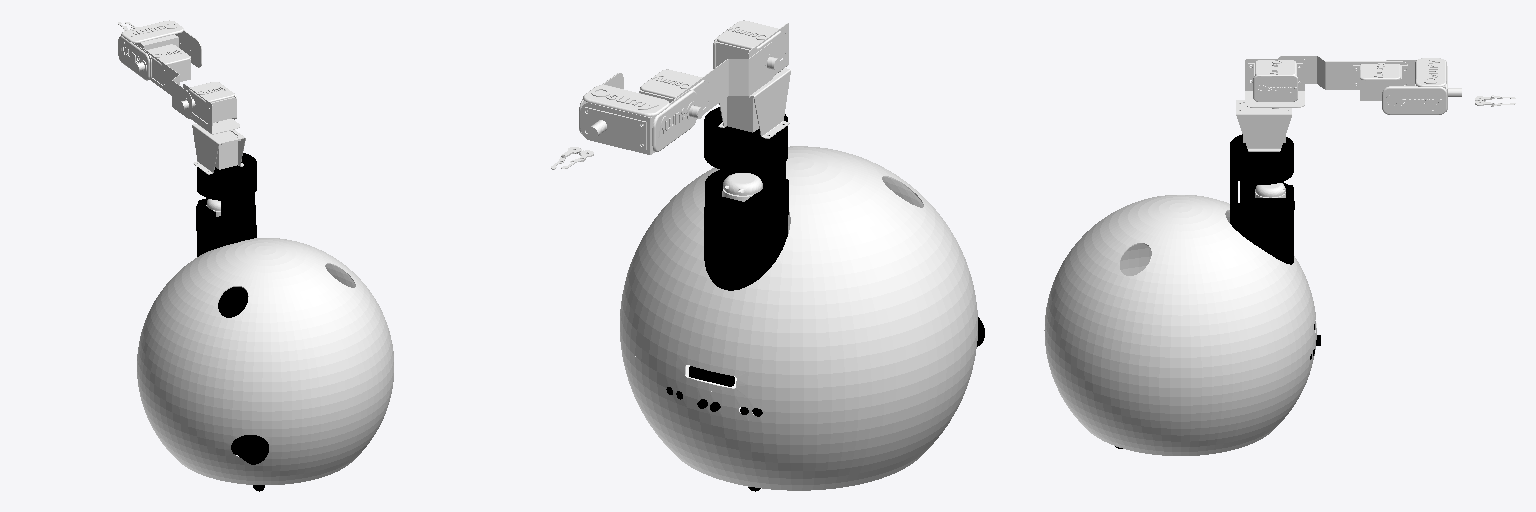
--- Facts derived from the render (not from the file) ---
The picture shows the robot from 3 angles, left to right: view 1: azimuth 30°, elevation 25°; view 2: azimuth 150°, elevation 25°; view 3: azimuth 270°, elevation 25°; orthographic projection.
Model robot with 29 links and 28 joints (8 continuous, 20 fixed), rooted at base_link, posed all joints at 0.
Links seen in each view (by area): view 1: base_link, main_body, shoulder_arm, mount_arm, arm, mount, long_label_1, lidar_cover, long_label_3, long_label_4, long_label_6, long_label_2; view 2: base_link, main_body, lidar_cover, arm, shoulder_arm, wrist_arm, long_label_1, long_label_3, mount_arm, long_label_4, long_label_6, lidar; view 3: base_link, main_body, arm, shoulder_arm, long_label_2, lidar_cover, long_label_5, mount_arm, long_label_1, long_label_6, long_label_4.
Boxes of the visible links, x1,y1,x2,y2 form: base_link: [137, 238, 393, 484]; main_body: [197, 153, 256, 317]; shoulder_arm: [192, 124, 245, 174]; mount_arm: [179, 84, 239, 134]; arm: [135, 48, 191, 118]; mount: [231, 435, 268, 464]; long_label_1: [122, 20, 183, 42]; lidar_cover: [196, 198, 255, 239]; long_label_3: [118, 36, 149, 80]; long_label_4: [189, 82, 234, 102]; long_label_6: [147, 44, 190, 65]; long_label_2: [175, 30, 201, 67]; base_link: [620, 146, 977, 490]; main_body: [704, 107, 787, 290]; lidar_cover: [705, 170, 788, 229]; arm: [639, 42, 776, 118]; shoulder_arm: [718, 68, 790, 138]; wrist_arm: [581, 90, 690, 154]; long_label_1: [583, 85, 669, 116]; long_label_3: [652, 90, 696, 151]; mount_arm: [716, 23, 788, 74]; long_label_4: [717, 20, 780, 49]; long_label_6: [640, 69, 704, 98]; lidar: [722, 173, 762, 201]; base_link: [1044, 195, 1316, 455]; main_body: [1230, 134, 1293, 264]; arm: [1278, 56, 1407, 100]; shoulder_arm: [1236, 100, 1291, 151]; long_label_2: [1382, 86, 1446, 114]; lidar_cover: [1240, 182, 1294, 225]; long_label_5: [1253, 74, 1297, 101]; mount_arm: [1245, 59, 1304, 107]; long_label_1: [1415, 58, 1446, 86]; long_label_6: [1360, 63, 1400, 80]; long_label_4: [1255, 60, 1295, 76].
Size in the robot's own frame: 0.654 by 1.13 by 0.963 metres.
Meshes: 18 distinct files referenced, 24 mesh visuals loaded (15 binary STL); not drawn: 5 (reference not matched to a file when rendering).

URDF robot description (robot):
<?xml version="1.0" encoding="utf-8"?>
<robot
  name="robot">
  <link
    name="base_link">
<inertial>
<mass value="10"/>
<inertia ixx="0.015" iyy="0.0375" izz="0.0375"
ixy="0" ixz="0" iyz="0"/>
</inertial>
    <visual>
      <origin
        xyz="0 0 0.33392"
        rpy="0 0 0" />
      <geometry>
        <mesh
          filename="package://robot/meshes/case_rsz.stl" />
      </geometry>
      <material
        name="White">
        <color
          rgba="1 1 1 1" />
      </material>
    </visual>
    <collision>
      <origin
        xyz="0 0 0.33392"
        rpy="0 0 0" />
      <geometry>
        <mesh
          filename="package://robot/meshes/case_rsz.stl" />
      </geometry>
    </collision>
  </link>
  <link
    name="leftwheel">
<inertial>
<mass value="1"/>
<inertia ixx="0.01" iyy="0.01" izz="0.01"
ixy="0" ixz="0" iyz="0"/>
</inertial>
    <visual>
      <origin
        xyz="0 0 0"
        rpy="0 0 3.14" />
      <geometry>
        <mesh
          filename="package://robot/meshes/wheel_rsz.stl" />
      </geometry>
      <material
        name="Black">
        <color
          rgba="0 0 0 1" />
      </material>
    </visual>
    <collision>
      <origin
        xyz="0 0 0"
        rpy="1.57 0 0" />
      <geometry>
        <cylinder radius="0.09" length = "0.03"/>
      </geometry>
    </collision>
  </link>
  <joint
    name="leftwheel_joint"
    type="continuous">
    <origin
        xyz="0.15 0 0.0851"
        rpy="0 0 1.5708" />
    <parent
      link="base_link" />
    <child
      link="leftwheel" />
    <axis
      xyz="0 1 0" />
  </joint>

  <link
    name="rightwheel">
<inertial>
<mass value="1"/>
<inertia ixx="0.01" iyy="0.01" izz="0.01"
ixy="0" ixz="0" iyz="0"/>
</inertial>
    <visual>
      <origin
        xyz="0 0 0"
        rpy="0 0 0" />
      <geometry>
        <mesh
          filename="package://robot/meshes/wheel_rsz.stl" />
      </geometry>
      <material
        name="Black">
        <color
          rgba="0 0 0 1" />
      </material>
    </visual>
    <collision>
      <origin
        xyz="0 0 0"
        rpy="1.57 0 0" />
      <geometry>
        <cylinder radius="0.09" length = "0.03"/>
      </geometry>
    </collision>
  </link>
  <joint
    name="rightwheel_joint"
    type="continuous">
    <origin
        xyz="-0.15 0 0.0851"
        rpy="0 0 1.5708" />
    <parent
      link="base_link" />
    <child
      link="rightwheel" />
    <axis
      xyz="0 1 0" />
  </joint>

 <link
    name="caster_front">
<inertial>
<mass value="0.5"/>
<inertia ixx="0.01" iyy="0.01" izz="0.01"
ixy="0" ixz="0" iyz="0"/>
</inertial>
    <visual>
      <origin
        xyz="0 0 0.06"
        rpy="0 0 0" />
      <geometry>
        <mesh
          filename="package://robot/meshes/caster.STL"/>

      </geometry>
      <material
        name="Black">
        <color
          rgba="0 0 0 1" />
      </material>
    </visual>
    <collision>
      <origin
        xyz="0.05 0 0"
        rpy="0 0 0" />
      <geometry>
        <sphere radius="0.025"/>
      </geometry>
    </collision>
  </link>
  <joint
    name="caster_front_joint"
    type="fixed">
    <origin
        xyz="0 0.1 0.024"
        rpy="0 0 1.57" />
    <parent
      link="base_link" />
    <child
      link="caster_front" />
    <axis
      xyz="0 1 0" />
  </joint>

 <link
    name="caster_right">
<inertial>
<mass value="0.8"/>
<inertia ixx="0.01" iyy="0.01" izz="0.01"
ixy="0" ixz="0" iyz="0"/>
</inertial>
    <visual>
      <origin
        xyz="0 0 0.06"
        rpy="0 0 0" />
      <geometry>
        <mesh
          filename="package://robot/meshes/caster.STL"/>

      </geometry>
      <material
        name="Black">
        <color
          rgba="0 0 0 1" />
      </material>
    </visual>
    <collision>
      <origin
        xyz="0 0 0"
        rpy="0 0 0" />
      <geometry>
        <sphere radius="0.025"/>
      </geometry>
    </collision>
  </link>
  <joint
    name="caster_right_joint"
    type="fixed">
    <origin
        xyz="0.1 -0.2 0.024"
        rpy="0 0 1.57" />
    <parent
      link="base_link" />
    <child
      link="caster_right" />
    <axis
      xyz="0 1 0" />
  </joint>

   <link
    name="caster_left">
<inertial>
<mass value="0.8"/>
<inertia ixx="0.01" iyy="0.01" izz="0.01"
ixy="0" ixz="0" iyz="0"/>
</inertial>
    <visual>
      <origin
        xyz="0 0 0.06"
        rpy="0 0 0" />
      <geometry>
        <mesh
          filename="package://robot/meshes/caster.STL"/>

      </geometry>
      <material
        name="Black">
        <color
          rgba="0 0 0 1" />
      </material>
    </visual>
    <collision>
      <origin
        xyz="0 0 0"
        rpy="0 0 0" />
      <geometry>
        <sphere radius="0.025"/>
      </geometry>
    </collision>
  </link>
  <joint
    name="caster_left_joint"
    type="fixed">
    <origin
        xyz="-0.1 -0.2 0.024"
        rpy="0 0 1.57" />
    <parent
      link="base_link" />
    <child
      link="caster_left" />
    <axis
      xyz="0 1 0" />
  </joint>


  <link
    name="mount">
<inertial>
<mass value="0.9"/>
<inertia ixx="0.01" iyy="0.01" izz="0.01"
ixy="0" ixz="0" iyz="0"/>
</inertial>
    <visual>
      <origin
        xyz="0 0 0"
        rpy="0 0 0" />
      <geometry>
        <mesh
          filename="package://robot/meshes/mount.stl" />
      </geometry>
      <material
        name="Black">
        <color
          rgba="0 0 0 1" />
      </material>
    </visual>
    <collision>
      <origin
        xyz="0 0 0"
        rpy="0 0 0" />
      <geometry>
        <mesh
          filename="package://robot/meshes/mount.stl" />
      </geometry>
    </collision>
  </link>
  <joint
    name="mount_joint"
    type="fixed">
    <origin
        xyz="-0.26 -0.3 0.13"
        rpy="0 0 0" />
    <parent
      link="base_link" />
    <child
      link="mount" />
    <axis
      xyz="0 1 0" />
  </joint>
  <link
    name="sensor1">
<inertial>
<mass value="0.1"/>
<inertia ixx="0.01" iyy="0.01" izz="0.01"
ixy="0" ixz="0" iyz="0"/>
</inertial>
    <visual>
      <origin
        xyz="0 0 0"
        rpy="0 0 0" />
      <geometry>
        <mesh
          filename="package://robot/meshes/sensor.stl" />
      </geometry>
      <material
        name="Black">
        <color
          rgba="0 0 0 1" />
      </material>
    </visual>
    <collision>
      <origin
        xyz="0 0 0"
        rpy="0 0 0" />
      <geometry>
        <mesh
          filename="package://robot/meshes/sensor.stl" />
      </geometry>
    </collision>
  </link>
  <joint
    name="sensor1_joint"
    type="fixed">
    <origin
        xyz="0 0.285 0.244"
        rpy="0 0 0" />
    <parent
      link="base_link" />
    <child
      link="sensor1" />
    <axis
      xyz="0 1 0" />
  </joint>

  <link
    name="sensor2">
<inertial>
<mass value="0.1"/>
<inertia ixx="0.01" iyy="0.01" izz="0.01"
ixy="0" ixz="0" iyz="0"/>

</inertial>
    <visual>
      <origin
        xyz="0 0 0 "
        rpy="0 0 0 " />
      <geometry>
        <mesh
          filename="package://robot/meshes/sensor.stl" />
      </geometry>
      <material
        name="Black">
        <color
          rgba="0 0 0 1" />
      </material>
    </visual>
    <collision>
      <origin
        xyz="0 0 0"
        rpy="0 0 0" />
      <geometry>
        <mesh
          filename="package://robot/meshes/sensor.stl" />
      </geometry>
    </collision>
  </link>
  <joint
    name="sensor2_joint"
    type="fixed">
    <origin
        xyz="0.078 0.265 0.244"
        rpy="0 0 -0.26" />
    <parent
      link="base_link" />
    <child
      link="sensor2" />
    <axis
      xyz="0 1 0" />
  </joint>
  <link
    name="sensor3">
<inertial>
<mass value="0.1"/>
<inertia ixx="0.01" iyy="0.01" izz="0.01"
ixy="0" ixz="0" iyz="0"/>
</inertial>
    <visual>
      <origin
        xyz="-0.078 0.265 0.244"
        rpy="0 0 0.26" />
      <geometry>
        <mesh
          filename="package://robot/meshes/sensor.stl" />
      </geometry>
      <material
        name="Black">
        <color
          rgba="0 0 0 1" />
      </material>
    </visual>
    <collision>
      <origin
        xyz="-0.078 0.265 0.244"
        rpy="0 0 0" />
      <geometry>
        <mesh
          filename="package://robot/meshes/sensor.stl" />
      </geometry>
    </collision>
  </link>
  <joint
    name="sensor3_joint"
    type="fixed">
    <origin
        xyz="0 0 0"
        rpy="0 0 0" />
    <parent
      link="base_link" />
    <child
      link="sensor3" />
    <axis
      xyz="0 1 0" />
  </joint>

  <link
    name="main_body">
<inertial>
<mass value="0.1"/>
<inertia ixx="0.01" iyy="0.01" izz="0.01"
ixy="0" ixz="0" iyz="0"/>
</inertial>
    <visual>
      <origin
        xyz="0 0 0"
        rpy="0 0 0" />
      <geometry>
        <mesh
          filename="package://robot/meshes/body.stl" />
      </geometry>
      <material
        name="Black">
        <color
          rgba="0 0 0 1" />
      </material>
    </visual>
    <collision>
      <origin
        xyz="0 0 0"
        rpy="0 0 0" />
      <geometry>
        <mesh
          filename="package://robot/meshes/body.stl" />
      </geometry>
    </collision>
  </link>
  <joint
    name="body_joint"
    type="fixed">
    <origin
        xyz="0 0.16 0.6"
        rpy="0 0 -1.5708" />
    <parent
      link="base_link" />
    <child
      link="main_body" />
    <axis
      xyz="0 1 0" />
  </joint>

  <link
    name="lidar_cover">
<inertial>
<mass value="0.1"/>
<inertia ixx="0.01" iyy="0.01" izz="0.01"
ixy="0" ixz="0" iyz="0"/>
</inertial>
    <visual>
      <origin
        xyz="0 0 0"
        rpy="0 0 0" />
      <geometry>
        <mesh
          filename="package://robot/meshes/lidar2.STL" />
      </geometry>
      <material
        name="White">
        <color
          rgba="0 0 0 1" />
      </material>
    </visual>
    <collision>
      <origin
        xyz="0 0 0"
        rpy="0 0 0" />
      <geometry>
        <mesh
          filename="package://robot/meshes/lidar2.STL" />
      </geometry>
    </collision>
  </link>
  <joint
    name="lidar_cover"
    type="fixed">
    <origin
        xyz="0 0.005 -0.015"
        rpy="1.57 0 -1.57" />
    <parent
      link="main_body" />
    <child
      link="lidar_cover" />
    <axis
      xyz="0 1 0" />
  </joint>



  <link
    name="lidar">
<inertial>
<mass value="0.1"/>
<inertia ixx="0.01" iyy="0.01" izz="0.01"
ixy="0" ixz="0" iyz="0"/>
</inertial>
    <visual>
      <origin
        xyz="0 0 0"
        rpy="0 0 0" />
      <geometry>
        <mesh
          filename="package://robot/meshes/lidar.stl" />
      </geometry>
      <material
        name="White">
        <color
          rgba="1 1 1 1" />
      </material>
    </visual>
    <collision>
      <origin
        xyz="0 0 0"
        rpy="0 0 0" />
      <geometry>
        <mesh
          filename="package://robot/meshes/lidar.stl" />
      </geometry>
    </collision>
  </link>
  <joint
    name="lidar_joint"
    type="fixed">
    <origin
        xyz="0.01 0.065 0.03"
        rpy="-1.57 -1.57 0" />
    <parent
      link="lidar_cover" />
    <child
      link="lidar" />
    <axis
      xyz="0 1 0" />
  </joint>
  <link
    name="shoulder_arm">
<inertial>
<mass value="0.1"/>
<inertia ixx="0.01" iyy="0.01" izz="0.01"
ixy="0" ixz="0" iyz="0"/>
</inertial>
    <visual>
      <origin
        xyz="0 0 0"
        rpy="0 0 0" />
      <geometry>
        <mesh
          filename="package://robot/meshes/shoulder.stl" />
      </geometry>
      <material
        name="White">
        <color
          rgba="1 1 1 1" />
      </material>
    </visual>
    <collision>
      <origin
        xyz="0 0 0"
        rpy="0 0 0" />
      <geometry>
        <mesh
          filename="package://robot/meshes/shoulder.stl" />
      </geometry>
    </collision>
  </link>
  <joint
    name="shoulder_arm_joint"
    type="fixed">
    <origin
        xyz="0 -0.02 0.2"
        rpy="0 0 0" />
    <parent
      link="main_body" />
    <child
      link="shoulder_arm" />
    <limit 
      lower="-0.78" upper="0.78" effort="0.1" velocity="0.1"/>
    <dynamics damping="0.5"/>
    <axis
      xyz="0 1 0" />
  </joint>
  <link
    name="mount_arm">
<inertial>
<mass value="0.1"/>
<inertia ixx="0.01" iyy="0.01" izz="0.01"
ixy="0" ixz="0" iyz="0" />
      </inertial>
    <visual>
      <origin
        xyz="0.026 0 0"
        rpy="0 0 0" />
      <geometry>
        <mesh
          filename="package://robot/meshes/mount_arm.stl" />
      </geometry>
      <material
        name="White">
        <color
          rgba="1 1 1 1" />
      </material>
    </visual>
    <collision>
      <origin
        xyz="0.026 0 0"
        rpy="0 0 0" />
      <geometry>
        <mesh
          filename="package://robot/meshes/mount_arm.stl" />
      </geometry>
    </collision>
  </link>
  <joint
    name="mount_arm_joint"
    type="continuous">
    <origin
        xyz="-0.026 0 0"
        rpy="0 0 0" />
    <parent
      link="shoulder_arm" />
    <child
      link="mount_arm" />

    <axis
      xyz="0 0 1" />
  </joint>
  <transmission name="tran1">
    <type>transmission_interface/SimpleTransmission</type>
    <joint name="mount_arm_joint">
      <hardwareInterface>hardware_interface/PositionJointInterface</hardwareInterface>
    </joint>
    <actuator name="motor1">
      <hardwareInterface>PositionJointInterface</hardwareInterface>
      <mechanicalReduction>1</mechanicalReduction>
    </actuator>
  </transmission>

<link
    name="long_label_4">
<inertial>
<mass value="0.01"/>
<inertia ixx="0.01" iyy="0.01" izz="0.01"
ixy="0" ixz="0" iyz="0" />
      </inertial>
    <visual>
      <origin
        xyz="0 0 0"
        rpy="0 0 0" />
      <geometry>
        <mesh
          filename="package://robot/meshes/label.STL" 
          scale="1 1 1.1 "/>
      </geometry>
      <material
        name="White">
        <color
          rgba="1 1 1 1" />
      </material>
    </visual>
    <collision>
      <origin
        xyz="0 0 0"
        rpy="0 0 0" />
      <geometry>
        <mesh
          filename="package://robot/meshes/label.STL" />
      </geometry>
    </collision>
  </link>
  <joint
    name="long_label_4_joint"
    type="fixed">
    <origin
        xyz="0.005 -0.01 0.155"
        rpy="1.57 0 -1.57" />
    <parent
      link="mount_arm" />
    <child
      link="long_label_4" />
    <axis
      xyz="0 1 0" />
  </joint>

<link
    name="long_label_5">
<inertial>
<mass value="0.01"/>
<inertia ixx="0.01" iyy="0.01" izz="0.01"
ixy="0" ixz="0" iyz="0" />
      </inertial>
    <visual>
      <origin
        xyz="0 0 0"
        rpy="0 0 0" />
      <geometry>
        <mesh
          filename="package://robot/meshes/label.STL" 
          scale="1.2 1 0.8 "/>
      </geometry>
      <material
        name="White">
        <color
          rgba="1 1 1 1" />
      </material>
    </visual>
    <collision>
      <origin
        xyz="0 0 0"
        rpy="0 0 0" />
      <geometry>
        <mesh
          filename="package://robot/meshes/label.STL" />
      </geometry>
    </collision>
  </link>
  <joint
    name="long_label_5_joint"
    type="fixed">
    <origin
        xyz="0.005 0.035 0.12"
        rpy="0 0 0" />
    <parent
      link="mount_arm" />
    <child
      link="long_label_5" />
    <axis
      xyz="0 1 0" />
  </joint>

  <link
    name="arm">
<inertial>
<mass value="0.1"/>
<inertia ixx="0.01" iyy="0.01" izz="0.01"
ixy="0" ixz="0" iyz="0" />
      </inertial>
    <visual>
      <origin
        xyz="0.052 0.07376 -0.124"
        rpy="0 0 0" />
      <geometry>
        <mesh
          filename="package://robot/meshes/arm.stl" />
      </geometry>
      <material
        name="White">
        <color
          rgba="1 1 1 1" />
      </material>
    </visual>
    <collision>
      <origin
        xyz="0.052 0.07376 -0.124"
        rpy="0 0 0" />
      <geometry>
        <mesh
          filename="package://robot/meshes/arm.stl" />
      </geometry>
    </collision>
  </link>
  <joint
    name="arm_joint"
    type="continuous">
    <origin
        xyz="-0.026 -0.07376 0.124"
        rpy="0 0 0" />
    <parent
      link="mount_arm" />
    <child
      link="arm" />
    <axis
      xyz="0 1 0" />
  </joint>

<link
    name="long_label_6">
<inertial>
<mass value="0.01"/>
<inertia ixx="0.01" iyy="0.01" izz="0.01"
ixy="0" ixz="0" iyz="0" />
      </inertial>
    <visual>
      <origin
        xyz="0 0 0"
        rpy="0 0 0" />
      <geometry>
        <mesh
          filename="package://robot/meshes/label.STL" 
          scale="1 1 1.1 "/>
      </geometry>
      <material
        name="White">
        <color
          rgba="1 1 1 1" />
      </material>
    </visual>
    <collision>
      <origin
        xyz="0 0 0"
        rpy="0 0 0" />
      <geometry>
        <mesh
          filename="package://robot/meshes/label.STL" />
      </geometry>
    </collision>
  </link>
  <joint
    name="long_label_6_joint"
    type="fixed">
    <origin
        xyz="-0.22 0.08 0.03"
        rpy="1.57 0 -1.57" />
    <parent
      link="arm" />
    <child
      link="long_label_6" />
    <axis
      xyz="0 1 0" />
  </joint>

  <transmission name="tran2">
    <type>transmission_interface/SimpleTransmission</type>
    <joint name="arm_joint">
      <hardwareInterface>hardware_interface/PositionJointInterface</hardwareInterface>
    </joint>
    <actuator name="motor2">
      <hardwareInterface>PositionJointInterface</hardwareInterface>
      <mechanicalReduction>1</mechanicalReduction>
    </actuator>
  </transmission>

  <link
    name="wrist_arm">
<inertial>
<mass value="0.01"/>
<inertia ixx="0.01" iyy="0.01" izz="0.01"
ixy="0" ixz="0" iyz="0" />
      </inertial>
    <visual>
      <origin
        xyz="0.3 0.07376 -0.124"
        rpy="0 0 0" />
      <geometry>
        <mesh
          filename="package://robot/meshes/wrist.stl" />
      </geometry>
      <material
        name="White">
        <color
          rgba="1 1 1 1" />
      </material>
    </visual>
    <collision>
      <origin
        xyz="0.3 0.07376 -0.124"
        rpy="0 0 0" />
      <geometry>
        <mesh
          filename="package://robot/meshes/wrist.stl" />
      </geometry>
    </collision>
  </link>
  <joint
    name="wrist_arm_joint"
    type="continuous">
    <origin
        xyz="-0.25 0 0"
        rpy="0 0 0" />
    <parent
      link="arm" />
    <child
      link="wrist_arm" />
    <axis
      xyz="0 1 0" />
  </joint>
    <transmission name="tran3">
    <type>transmission_interface/SimpleTransmission</type>
    <joint name="wrist_arm_joint">
      <hardwareInterface>hardware_interface/PositionJointInterface</hardwareInterface>
    </joint>
    <actuator name="motor3">
      <hardwareInterface>PositionJointInterface</hardwareInterface>
      <mechanicalReduction>1</mechanicalReduction>
    </actuator>
  </transmission>

  <link
    name="long_label_1">
<inertial>
<mass value="0.01"/>
<inertia ixx="0.01" iyy="0.01" izz="0.01"
ixy="0" ixz="0" iyz="0" />
      </inertial>
    <visual>
      <origin
        xyz="0 0 0"
        rpy="0 0 0" />
      <geometry>
        <mesh
          filename="package://robot/meshes/long_label.STL" />
      </geometry>
      <material
        name="White">
        <color
          rgba="1 1 1 1" />
      </material>
    </visual>
    <collision>
      <origin
        xyz="0 0 0"
        rpy="0 0 0" />
      <geometry>
        <mesh
          filename="package://robot/meshes/long_label.STL" />
      </geometry>
    </collision>
  </link>
  <joint
    name="long_label_1_joint"
    type="fixed">
    <origin
        xyz="-0.1 0.11 0.04"
        rpy="1.57 0 1.57" />
    <parent
      link="wrist_arm" />
    <child
      link="long_label_1" />
    <axis
      xyz="0 1 0" />
  </joint>

  <link
    name="long_label_2">
<inertial>
<mass value="0.01"/>
<inertia ixx="0.01" iyy="0.01" izz="0.01"
ixy="0" ixz="0" iyz="0" />
      </inertial>
    <visual>
      <origin
        xyz="0 0 0"
        rpy="0 0 0" />
      <geometry>
        <mesh
          filename="package://robot/meshes/long_label.STL" />
      </geometry>
      <material
        name="White">
        <color
          rgba="1 1 1 1" />
      </material>
    </visual>
    <collision>
      <origin
        xyz="0 0 0"
        rpy="0 0 0" />
      <geometry>
        <mesh
          filename="package://robot/meshes/long_label.STL" />
      </geometry>
    </collision>
  </link>
  <joint
    name="long_label_2_joint"
    type="fixed">
    <origin
        xyz="-0.06 0.185 0.0"
        rpy="0 0 0" />
    <parent
      link="wrist_arm" />
    <child
      link="long_label_2" />
    <axis
      xyz="0 1 0" />
  </joint>

<link
    name="long_label_3">
<inertial>
<mass value="0.01"/>
<inertia ixx="0.01" iyy="0.01" izz="0.01"
ixy="0" ixz="0" iyz="0" />
      </inertial>
    <visual>
      <origin
        xyz="0 0 0"
        rpy="0 0 0" />
      <geometry>
        <mesh
          filename="package://robot/meshes/long_label.STL" />
      </geometry>
      <material
        name="White">
        <color
          rgba="1 1 1 1" />
      </material>
    </visual>
    <collision>
      <origin
        xyz="0 0 0"
        rpy="0 0 0" />
      <geometry>
        <mesh
          filename="package://robot/meshes/long_label.STL" />
      </geometry>
    </collision>
  </link>
  <joint
    name="long_label_3_joint"
    type="fixed">
    <origin
        xyz="-0.058 0.035 0.005"
        rpy="0 3.14 3.14" />
    <parent
      link="wrist_arm" />
    <child
      link="long_label_3" />
    <axis
      xyz="0 1 0" />
  </joint>


<link
    name="servo">
<inertial>
<mass value="0.01"/>
<inertia ixx="0.01" iyy="0.01" izz="0.01"
ixy="0" ixz="0" iyz="0" />
      </inertial>
    <visual>
      <origin
        xyz="0 -0.02 0"
        rpy="0 0 0" />
      <geometry>
        <mesh
          filename="package://robot/meshes/servo.stl" />
      </geometry>
      <material
        name="White">
        <color
          rgba="1 1 1 1" />
      </material>
    </visual>
    <collision>
      <origin
        xyz="0 0 0"
        rpy="0 0 0" />
      <geometry>
        <mesh
          filename="package://robot/meshes/servo.stl" />
      </geometry>
    </collision>
  </link>
<joint
    name="servo_joint"
    type="continuous">
    <origin
        xyz="-0.2 0.14 0.01"
        rpy="-1.57 0 1.57" />
    <parent
      link="wrist_arm" />
    <child
      link="servo" />
    <axis
      xyz="0 0 1" />
  </joint>
      <transmission name="tran6">
    <type>transmission_interface/SimpleTransmission</type>
    <joint name="servo_joint">
      <hardwareInterface>hardware_interface/PositionJointInterface</hardwareInterface>
    </joint>
    <actuator name="motor6">
      <hardwareInterface>PositionJointInterface</hardwareInterface>
      <mechanicalReduction>1</mechanicalReduction>
    </actuator>
  </transmission>

  <link
    name="finger1">
<inertial>
<mass value="0.01"/>
<inertia ixx="0.01" iyy="0.01" izz="0.01"
ixy="0" ixz="0" iyz="0" />
      </inertial>
    <visual>
      <origin
        xyz="0 0 0"
        rpy="0 0 0" />
      <geometry>
        <mesh
          filename="package://robot/meshes/finger2.stl" />
      </geometry>
      <material
        name="White">
        <color
          rgba="1 1 1 1" />
      </material>
    </visual>
    <collision>
      <origin
        xyz="0 0 0"
        rpy="0 0 0" />
      <geometry>
        <mesh
          filename="package://robot/meshes/finger2.stl" />
      </geometry>
    </collision>
  </link>
<joint
    name="finger1_joint"
    type="continuous">
    <origin
        xyz="-0.016 0.03 0.015"
        rpy="0 0 3.14" />
    <parent
      link="servo" />
    <child
      link="finger1" />
    <axis
      xyz="0 1 0" />
  </joint>
      <transmission name="tran5">
    <type>transmission_interface/SimpleTransmission</type>
    <joint name="finger1_joint">
      <hardwareInterface>hardware_interface/PositionJointInterface</hardwareInterface>
    </joint>
    <actuator name="motor5">
      <hardwareInterface>PositionJointInterface</hardwareInterface>
      <mechanicalReduction>1</mechanicalReduction>
    </actuator>
  </transmission>

  <link
    name="finger2">
<inertial>
<mass value="0.01"/>
<inertia ixx="0.01" iyy="0.01" izz="0.01"
ixy="0" ixz="0" iyz="0" />
      </inertial>
    <visual>
      <origin
        xyz="0 0 0"
        rpy="0 0 0" />
      <geometry>
        <mesh
          filename="package://robot/meshes/finger2.stl" />
      </geometry>
      <material
        name="White">
        <color
          rgba="1 1 1 1" />
      </material>
    </visual>
    <collision>
      <origin
        xyz="0 0 0"
        rpy="0 0 0" />
      <geometry>
        <mesh
          filename="package://robot/meshes/finger2.stl" />
      </geometry>
    </collision>
  </link>
<joint
    name="finger2_joint"
    type="continuous">
    <origin
        xyz="0.015 0.03 0.015"
        rpy="0 0 0" />
    <parent
      link="servo" />
    <child
      link="finger2" />
    <axis
      xyz="0 1 0" />
  </joint>

      <transmission name="tran4">
    <type>transmission_interface/SimpleTransmission</type>
    <joint name="finger2_joint">
      <hardwareInterface>hardware_interface/PositionJointInterface</hardwareInterface>
    </joint>
    <actuator name="motor4">
      <hardwareInterface>PositionJointInterface</hardwareInterface>
      <mechanicalReduction>1</mechanicalReduction>
    </actuator>
  </transmission>

 <link
    name="camera">
<inertial>
<mass value="0.1"/>
<inertia ixx="0.01" iyy="0.01" izz="0.01"
ixy="0" ixz="0" iyz="0"/>
</inertial>
    <visual>
      <origin
        xyz="0 0 0"
        rpy="0 1.57 0" />
      <geometry>
        <mesh
          filename="package://robot/meshes/astra.dae"
          scale="0.3 0.3 0.3 " />

      </geometry>
      <material
        name="Black">
        <color
          rgba="0 0 0 1" />
      </material>
    </visual>
    <collision>
      <origin
        xyz="0 0 0"
        rpy="0 1.57 0" />
      <geometry>
        <mesh
          filename="package://robot/meshes/astra.dae"
          scale="0.3 0.3 0.3 " />
      </geometry>
    </collision>
  </link>
  <joint
    name="camera_joint"
    type="fixed">
    <origin
        xyz="0 0.27 0.33"
        rpy="-1.57 0 1.57" />
    <parent
      link="base_link" />
    <child
      link="camera" />
    <axis
      xyz="0 1 0" />
  </joint>

 <link
    name="camera_2">
<inertial>
<mass value="0.1"/>
<inertia ixx="0.01" iyy="0.01" izz="0.01"
ixy="0" ixz="0" iyz="0"/>
</inertial>
    <visual>
      <origin
        xyz="0 0 0"
        rpy="0 0 0" />
      <geometry>
        <mesh
          filename="package://robot/meshes/T265.STL" />

      </geometry>
      <material
        name="Black">
        <color
          rgba="0 0 0 1" />
      </material>
    </visual>
    <collision>
      <origin
        xyz="0 0 0"
        rpy="0 0 0" />
      <geometry>
        <mesh
          filename="package://robot/meshes/T265.STL" />
      </geometry>
    </collision>
  </link>

  <joint
    name="camera_2_joint"
    type="fixed">
    <origin
        xyz="-0.045 0.27 0.312"
        rpy="-1.57 0 0" />
    <parent
      link="base_link" />
    <child
      link="camera_2" />
    <axis
      xyz="0 1 0" />
  </joint>

 <link
    name="camera_1">
<inertial>
<mass value="0.1"/>
<inertia ixx="0.01" iyy="0.01" izz="0.01"
ixy="0" ixz="0" iyz="0"/>
</inertial>
    <visual>
      <origin
        xyz="0 0 0"
        rpy="0 0 0" />
      <geometry>
        <mesh
          filename="package://robot/meshes/astra.dae"
          scale="0.3 0.3 0.3 " />

      </geometry>
      <material
        name="Black">
        <color
          rgba="0 0 0 1" />
      </material>
    </visual>
    <collision>
      <origin
        xyz="0 0 0"
        rpy="0 0 0" />
      <geometry>
        <mesh
          filename="package://robot/meshes/astra.dae"
          scale="0.3 0.3 0.3 " />
      </geometry>
    </collision>
  </link>
  <joint
    name="camera_1_joint"
    type="fixed">
    <origin
        xyz="0 -0.04 0"
        rpy="0 0 0" />
    <parent
      link="servo" />
    <child
      link="camera_1" />
    <axis
      xyz="0 1 0" />
  </joint>


<!--Gazebo -->

  <gazebo reference="base_link">
         <material>Gazebo/SkyBlue</material>
  </gazebo>

  <gazebo reference="rightwheel">
         <material>Gazebo/DarkGrey</material>
  </gazebo>

  <gazebo reference="leftwheel">
         <material>Gazebo/DarkGrey</material>
  </gazebo>

  <gazebo reference="sensor1">
         <material>Gazebo/ZincYellow</material>
  </gazebo>

  <gazebo reference="sensor2">
         <material>Gazebo/ZincYellow</material>
  </gazebo>

  <gazebo reference="sensor3">
         <material>Gazebo/ZincYellow</material>
  </gazebo>

  <gazebo reference="main_body">
         <material>Gazebo/DarkGrey</material>
  </gazebo>

  <gazebo reference="lidar">
         <material>Gazebo/ZincYellow</material>
  </gazebo>
  <gazebo reference="wrist_arm">
         <material>Gazebo/Purple</material>
  </gazebo>
  <gazebo reference="shoulder_arm">
         <material>Gazebo/Red</material>
  </gazebo>
  <gazebo reference="arm">
         <material>Gazebo/Indigo</material>
  </gazebo>
  <gazebo reference="servo">
         <material>Gazebo/GreenGlow</material>
  </gazebo>
 <gazebo reference="finger1">
         <material>Gazebo/YellowGlow</material>
  </gazebo>
   <gazebo reference="finger2">
         <material>Gazebo/BlueGlow</material>
  </gazebo>

     <gazebo reference="lidar_cover">
         <material>Gazebo/Purple</material>
  </gazebo>

     <gazebo reference="long_label_1">
         <material>Gazebo/ZincYellow</material>
  </gazebo>
     <gazebo reference="long_label_2">
         <material>Gazebo/ZincYellow</material>
  </gazebo>

     <gazebo reference="long_label_3">
         <material>Gazebo/ZincYellow</material>
  </gazebo>
     <gazebo reference="long_label_4">
         <material>Gazebo/ZincYellow</material>
  </gazebo>
     <gazebo reference="long_label_5">
         <material>Gazebo/ZincYellow</material>
  </gazebo>
      <gazebo reference="long_label_6">
         <material>Gazebo/ZincYellow</material>
  </gazebo> 
<gazebo reference="lidar">
    <sensor type="ray" name="head_rplidar_sensor">
      <pose>0 0 0.06 0 0 0</pose>
      <visualize>false</visualize>
      <update_rate>40</update_rate>
      <ray>
        <scan>
          <horizontal>
            <samples>720</samples>
            <resolution>1</resolution>
            <min_angle>-3.14159265</min_angle>
            <max_angle>3.14159265</max_angle>
          </horizontal>
        </scan>
        <range>
          <min>0.2</min>
          <max>30.0</max>
          <resolution>0.01</resolution>
        </range>
        <noise>
          <type>gaussian</type>
          <mean>0.0</mean>
          <stddev>0.01</stddev>
        </noise>
      </ray>
      <plugin name="gazebo_ros_head_rplidar_controller" filename="libgazebo_ros_laser.so">
        <topicName>scan</topicName>
        <frameName>lidar</frameName>
      </plugin>
    </sensor>
  </gazebo>

   <gazebo>

    <plugin name="differential_drive_controller" filename="libgazebo_ros_diff_drive.so">
      <commandTopic>cmd_vel</commandTopic>
      <odometryTopic>odom</odometryTopic>
      <odometryFrame>odom</odometryFrame>
      <odometrySource>world</odometrySource>
      <publishOdomTF>true</publishOdomTF>
      <robotBaseFrame>base_link</robotBaseFrame>
      <publishWheelTF>false</publishWheelTF>
      <publishTf>true</publishTf>
      <publishWheelJointState>true</publishWheelJointState>
      <legacyMode>false</legacyMode>
      <updateRate>30</updateRate>
      <leftJoint>rightwheel_joint</leftJoint>
      <rightJoint>leftwheel_joint</rightJoint>
      <wheelSeparation>0.3</wheelSeparation>
      <wheelDiameter>0.18</wheelDiameter>
      <wheelAcceleration>1</wheelAcceleration>
      <wheelTorque>100</wheelTorque>
      <rosDebugLevel>na</rosDebugLevel>
    </plugin>
  </gazebo>

<gazebo reference="sensor1">        
   <sensor type="ray" name="distance_sensor">
      <pose>0 0 0 0 0 0</pose>
      <visualize>false</visualize>
      <update_rate>50</update_rate>
      <ray>
         <scan>
            <horizontal>
               <samples>10</samples>
               <resolution>1</resolution> 
               <min_angle>-0.1</min_angle>
               <max_angle>0.1</max_angle>
            </horizontal>
            <vertical>
               <samples>10</samples>
               <resolution>1</resolution> 
               <min_angle>-0.1</min_angle>
               <max_angle>0.1</max_angle> 
            </vertical>
         </scan>
         <range>
            <min>0.01</min>
            <max>10</max>
            <resolution>0.02</resolution>
         </range>
      </ray>
      <plugin filename="libgazebo_ros_range.so" name="gazebo_ros_range">
         <gaussianNoise>0.005</gaussianNoise>
         <alwaysOn>true</alwaysOn>
         <updateRate>50</updateRate>
         <topicName>middle_sonar</topicName>
         <frameName>sensor1</frameName>
         <radiation>INFRARED</radiation>
         <fov>0.2967</fov>
      </plugin>
   </sensor>  
   </gazebo>
<gazebo reference="sensor2">        
   <sensor type="ray" name="distance_sensor">
      <pose>0 0 0 0 0 0</pose>
      <visualize>false</visualize>
      <update_rate>50</update_rate>
      <ray>
         <scan>
            <horizontal>
               <samples>10</samples>
               <resolution>1</resolution> 
               <min_angle>-0.1</min_angle>
               <max_angle>0.1</max_angle>
            </horizontal>
            <vertical>
               <samples>10</samples>
               <resolution>1</resolution> 
               <min_angle>-0.1</min_angle>
               <max_angle>0.1</max_angle> 
            </vertical>
         </scan>
         <range>
            <min>0.01</min>
            <max>10</max>
            <resolution>0.02</resolution>
         </range>
      </ray>
      <plugin filename="libgazebo_ros_range.so" name="gazebo_ros_range">
         <gaussianNoise>0.005</gaussianNoise>
         <alwaysOn>true</alwaysOn>
         <updateRate>50</updateRate>
         <topicName>right_sonar</topicName>
         <frameName>sensor2</frameName>
         <radiation>INFRARED</radiation>
         <fov>0.2967</fov>
      </plugin>
   </sensor>  
   </gazebo>
<gazebo reference="sensor3">        
   <sensor type="ray" name="distance_sensor">
      <pose>0 0 0 0 0 0</pose>
      <visualize>false</visualize>
      <update_rate>50</update_rate>
      <ray>
         <scan>
            <horizontal>
               <samples>10</samples>
               <resolution>1</resolution> 
               <min_angle>-0.1</min_angle>
               <max_angle>0.1</max_angle>
            </horizontal>
            <vertical>
               <samples>10</samples>
               <resolution>1</resolution> 
               <min_angle>-0.1</min_angle>
               <max_angle>0.1</max_angle> 
            </vertical>
         </scan>
         <range>
            <min>0.01</min>
            <max>10</max>
            <resolution>0.02</resolution>
         </range>
      </ray>
      <plugin filename="libgazebo_ros_range.so" name="gazebo_ros_range">
         <gaussianNoise>0.005</gaussianNoise>
         <alwaysOn>true</alwaysOn>
         <updateRate>50</updateRate>
         <topicName>left_sonar</topicName>
         <frameName>sensor3</frameName>
         <radiation>INFRARED</radiation>
         <fov>0.2967</fov>
      </plugin>
   </sensor>  
   </gazebo>

    <gazebo>
    <plugin name="control" filename="libgazebo_ros_control.so"/>
  </gazebo>

  <gazebo>
    <plugin name="joint_state_publisher" filename="libgazebo_ros_joint_state_publisher.so">
      <jointName> mount_arm_joint, arm_joint, wrist_arm_joint, finger2_joint, finger1_joint, servo_joint
      </jointName>
    </plugin>
  </gazebo>
  
  <gazebo reference="camera">
      <sensor type="camera" name="up_front_d435_camera">
        <update_rate>10</update_rate>
        <camera>
          <horizontal_fov>1.570795</horizontal_fov>
          <image>
            <format>R8G8B8</format>
            <width>500</width>
            <height>480</height>
          </image>
          <clip>
            <near>0.01</near>
            <far>100</far>
          </clip>
        </camera>

        <plugin name="up_front_d435_camera_controller" filename="libgazebo_ros_camera.so">
          <cameraName>up_front_d435</cameraName>
          <imageTopicName>camera/image</imageTopicName>
          <cameraInfoTopicName>camera/camera_info</cameraInfoTopicName>
          <frameName>up_front_d435_optical_frame</frameName>
        </plugin>
      </sensor>
    </gazebo>

  <gazebo reference="camera_1">
      <sensor type="camera" name="arm_d435_camera">
        <update_rate>10</update_rate>
        <camera>
          <horizontal_fov>1.570795</horizontal_fov>
          <image>
            <format>R8G8B8</format>
            <width>500</width>
            <height>480</height>
          </image>
          <clip>
            <near>0.01</near>
            <far>100</far>
          </clip>
        </camera>

        <plugin name="arm_d435_camera_controller" filename="libgazebo_ros_camera.so">
          <cameraName>arm_d435</cameraName>
          <imageTopicName>camera/image</imageTopicName>
          <cameraInfoTopicName>camera/camera_info</cameraInfoTopicName>
          <frameName>up_front_d435_optical_frame</frameName>
        </plugin>
      </sensor>
    </gazebo>

      <gazebo reference="camera_2">
      <sensor type="camera" name="front_T265_camera">
        <update_rate>10</update_rate>
        <camera>
          <horizontal_fov>1.570795</horizontal_fov>
          <image>
            <format>R8G8B8</format>
            <width>500</width>
            <height>480</height>
          </image>
          <clip>
            <near>0.01</near>
            <far>100</far>
          </clip>
        </camera>

        <plugin name="front_T265_camera_controller" filename="libgazebo_ros_camera.so">
          <cameraName>up_front_T265</cameraName>
          <imageTopicName>camera/image</imageTopicName>
          <cameraInfoTopicName>camera/camera_info</cameraInfoTopicName>
          <frameName>up_front_d435_optical_frame</frameName>
        </plugin>
      </sensor>
    </gazebo>

</robot>
